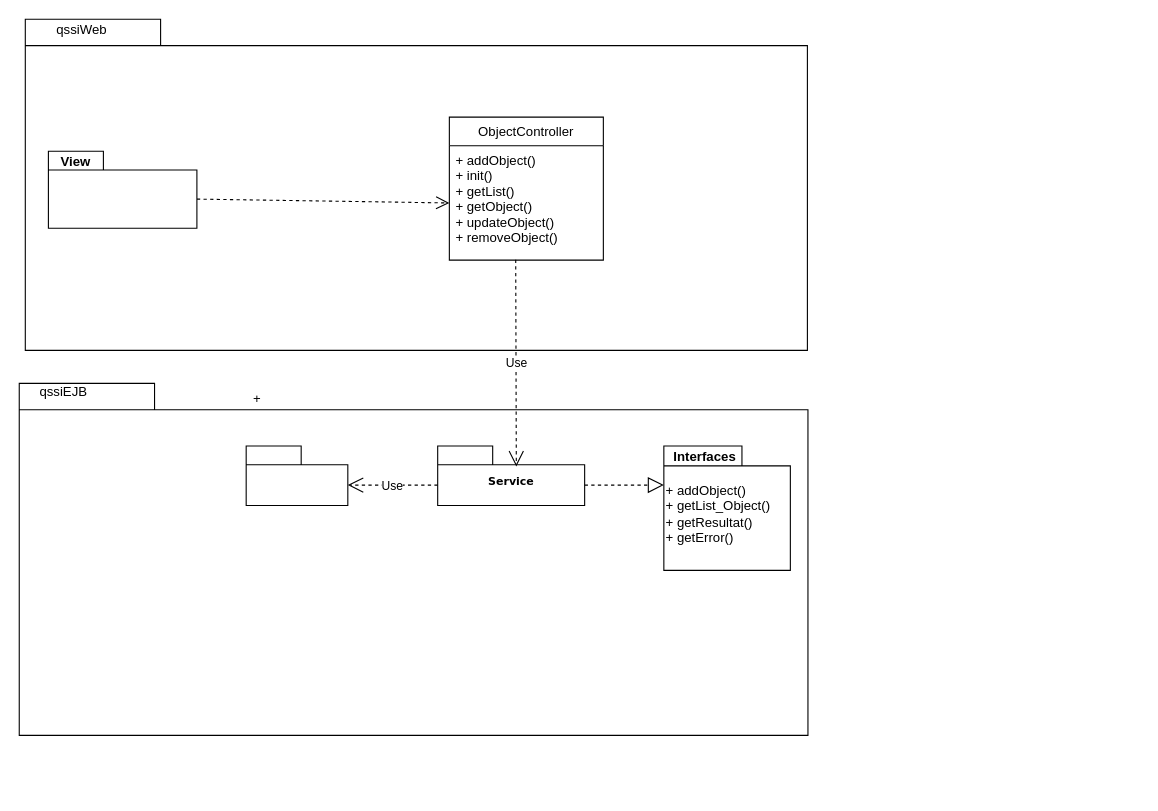
Image size: 1158x811. Some labels were removed from this diagram. The box of each missing label's shape, as (x1, y1, x2, y2) in pixels:
addObject.xhtml list.xhtml updateObject.xhtml: (47, 150, 197, 228)
Entity: (245, 445, 348, 505)
